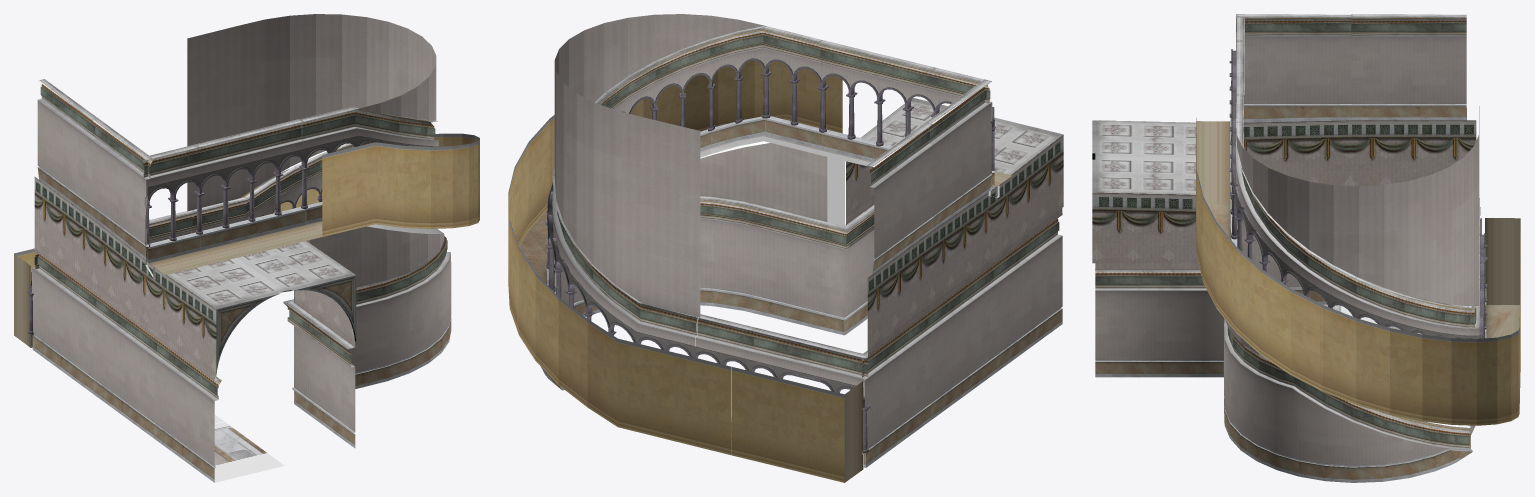
File: Star.obj
3 views of the same model, side by side, from view 1: azimuth 30°, elevation 25°; view 2: azimuth 150°, elevation 25°; view 3: azimuth 270°, elevation 25° (orthographic). The views are drawn at different scales.
Visible parts, largest first — view 1: Object010, Object008, Object014, Object012; view 2: Object010, Object014, Object008, Object012; view 3: Object010, Object014, Object008, Object012.
Boxes of the visible parts, x1,y1,x2,y2 form: Object010: [14, 14, 451, 482]; Object008: [34, 177, 356, 381]; Object014: [14, 133, 479, 283]; Object012: [26, 136, 442, 334]; Object010: [519, 14, 1062, 482]; Object014: [508, 40, 844, 482]; Object008: [845, 97, 1063, 356]; Object012: [545, 58, 995, 452]; Object010: [1095, 14, 1520, 482]; Object014: [1196, 118, 1520, 425]; Object008: [1092, 120, 1476, 270]; Object012: [1229, 49, 1487, 338].
Bounding box in the file's own units: 21.79 × 15.28 × 20.47.
